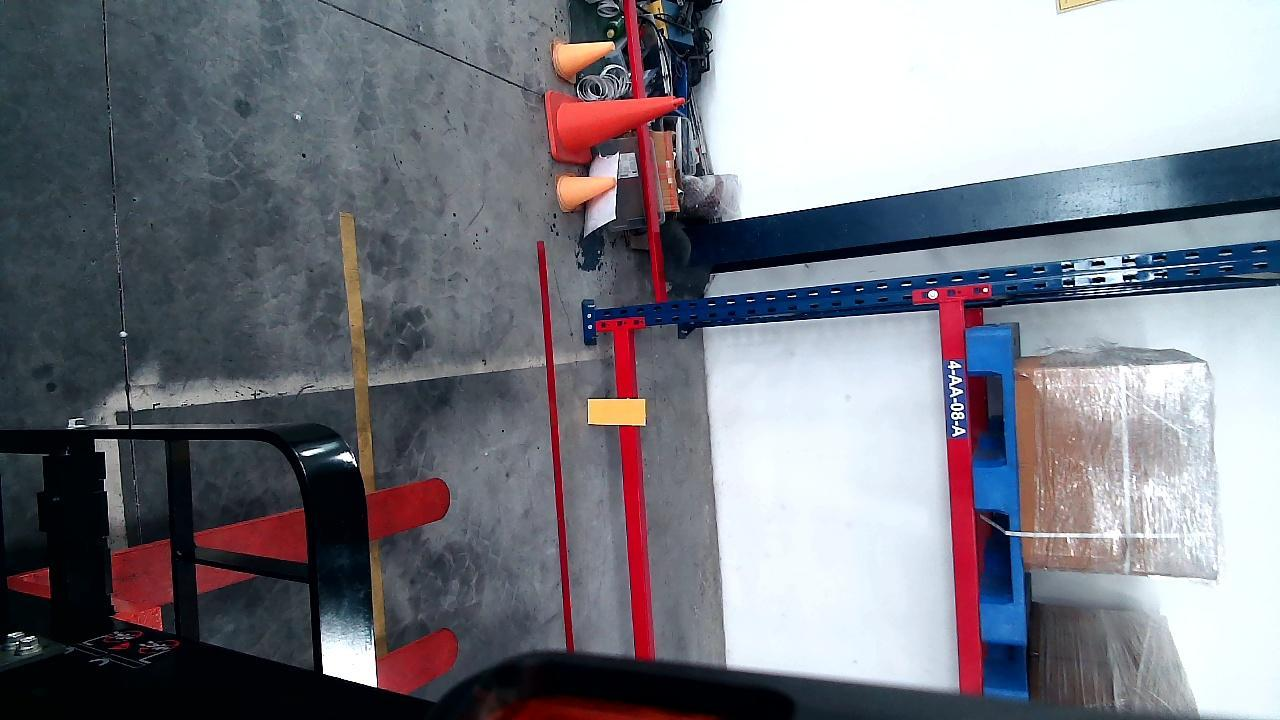red_line: (537, 241, 577, 650)
yellow_line: (344, 212, 373, 470)
